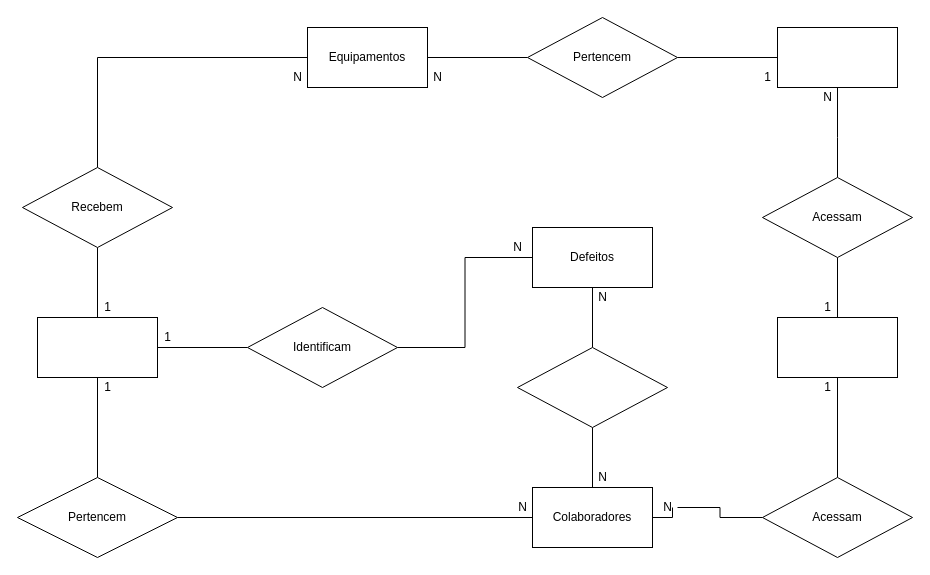
Some shapes in this 930 by 575 pixel diagram are drawn without their labels. The centre of each missing label's shape, as x and y in pixels:
"Clientes" belongs at point 837,57.
"Consertam" belongs at point 592,387.
"Empresas" belongs at point 97,347.
"Plataformas" belongs at point 837,347.
